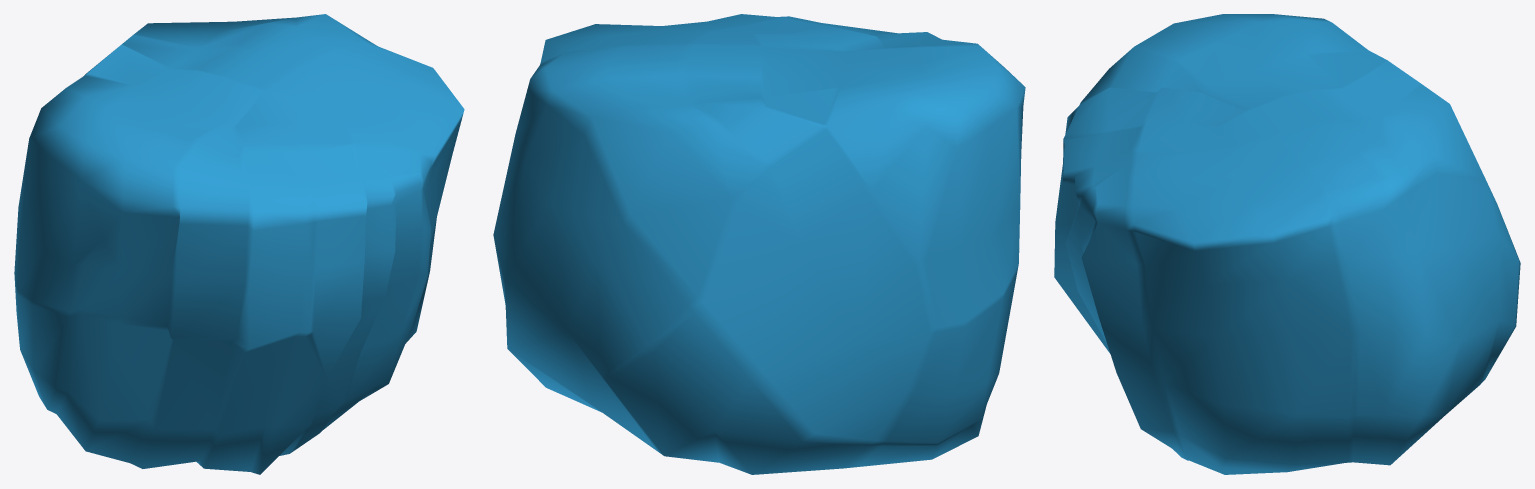
Rendered from Rock_04_Lod2.fbx.
3 views of the same model, side by side, from view 1: azimuth 30°, elevation 25°; view 2: azimuth 150°, elevation 25°; view 3: azimuth 270°, elevation 25° (orthographic). The views are drawn at different scales.
Visible parts, largest first — view 1: Rock_04_Lod2; view 2: Rock_04_Lod2; view 3: Rock_04_Lod2.
Boxes of the visible parts, <box> form: Rock_04_Lod2: <box>14,14,464,474</box>; Rock_04_Lod2: <box>493,14,1025,474</box>; Rock_04_Lod2: <box>1054,14,1520,474</box>.
Bounding box in the file's own units: 3854 × 3235 × 3740.
